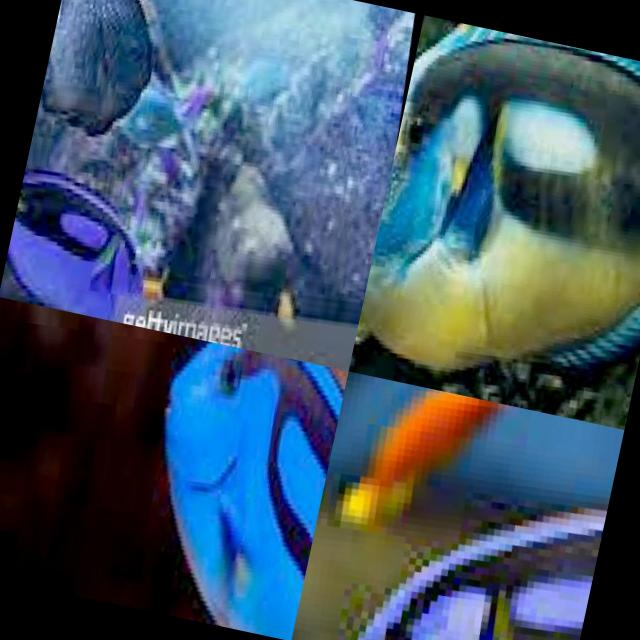BlueTang: (348, 14, 640, 429), (292, 373, 623, 640), (105, 331, 348, 640), (0, 104, 206, 332)
